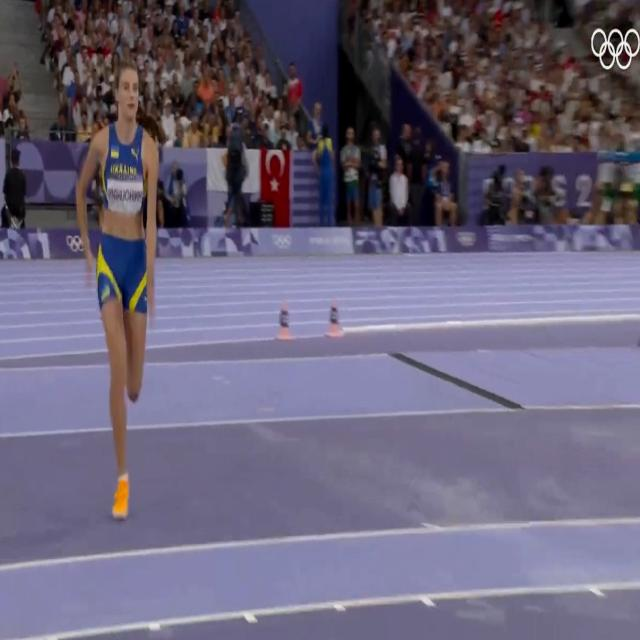run: (75, 61, 163, 525)
